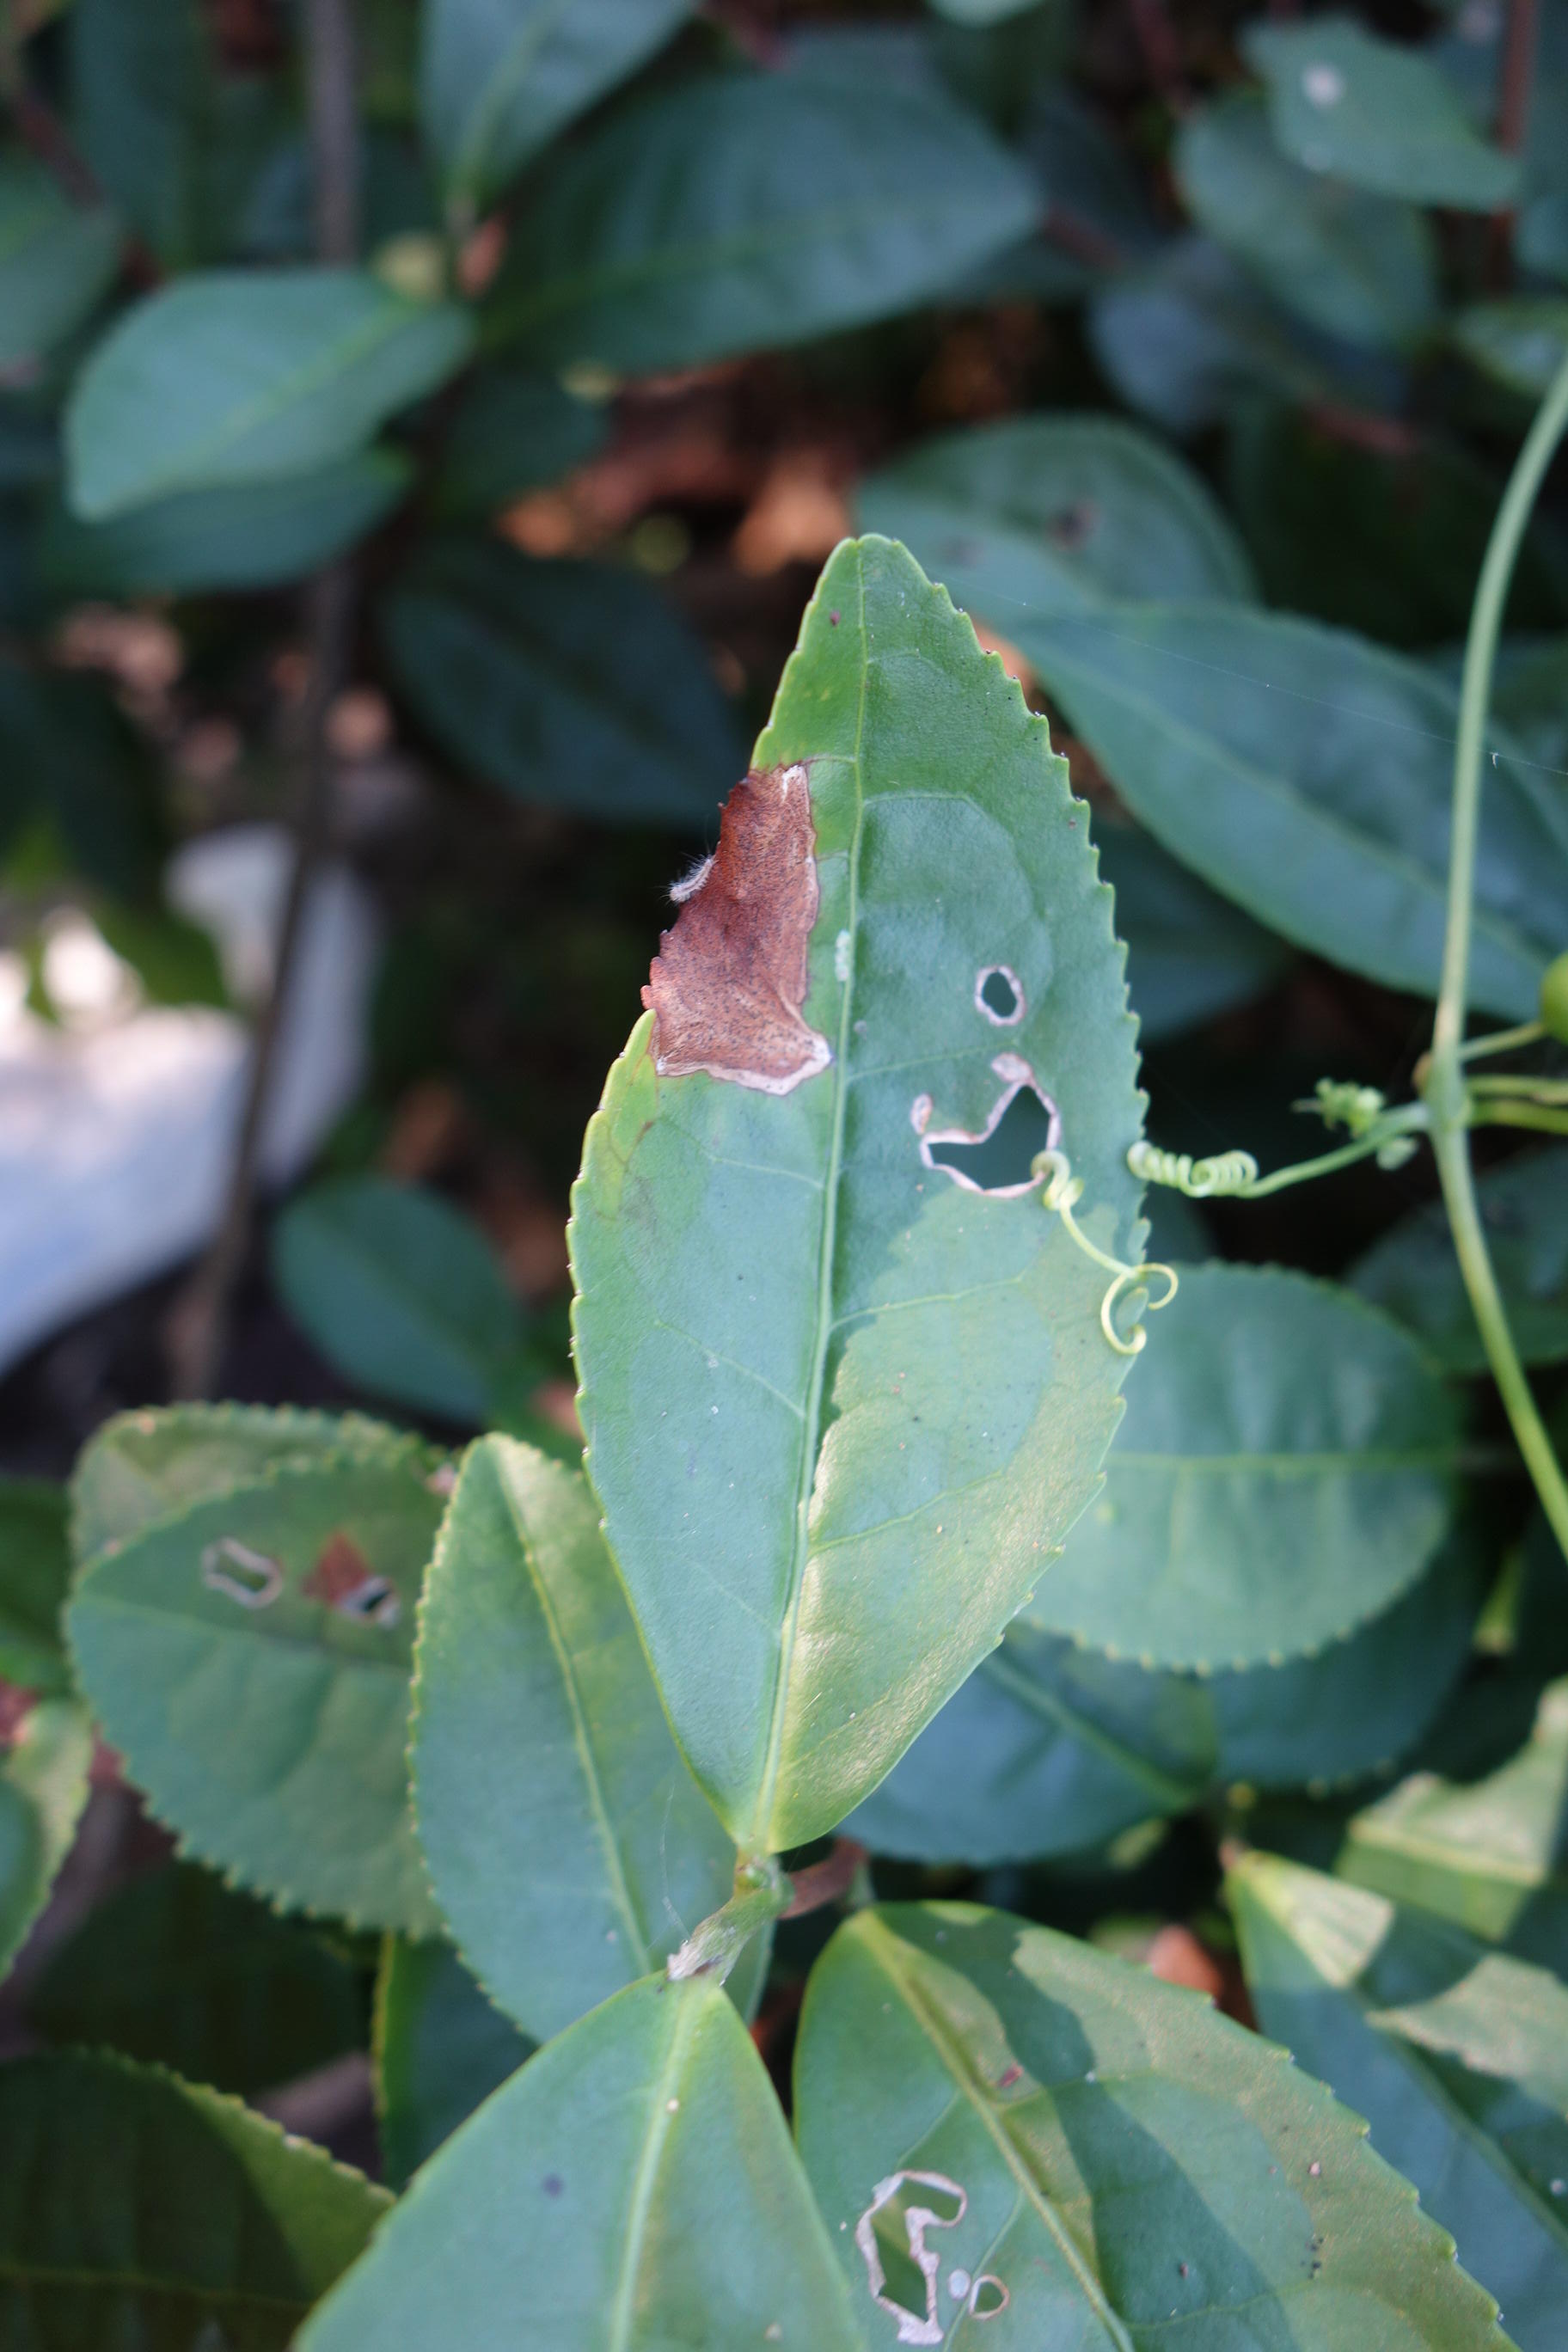chihuo_high: (791, 1895, 1535, 2350)
tanju_high: (584, 532, 1165, 1865)
